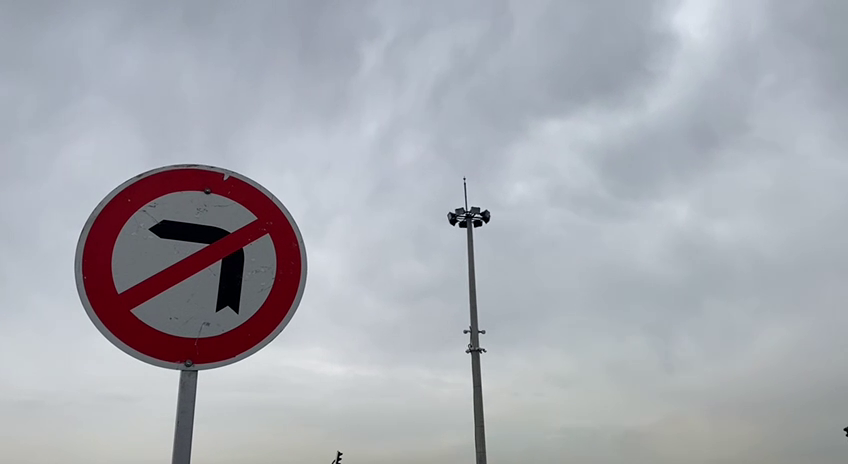noTurnLeft: (70, 154, 311, 377)
